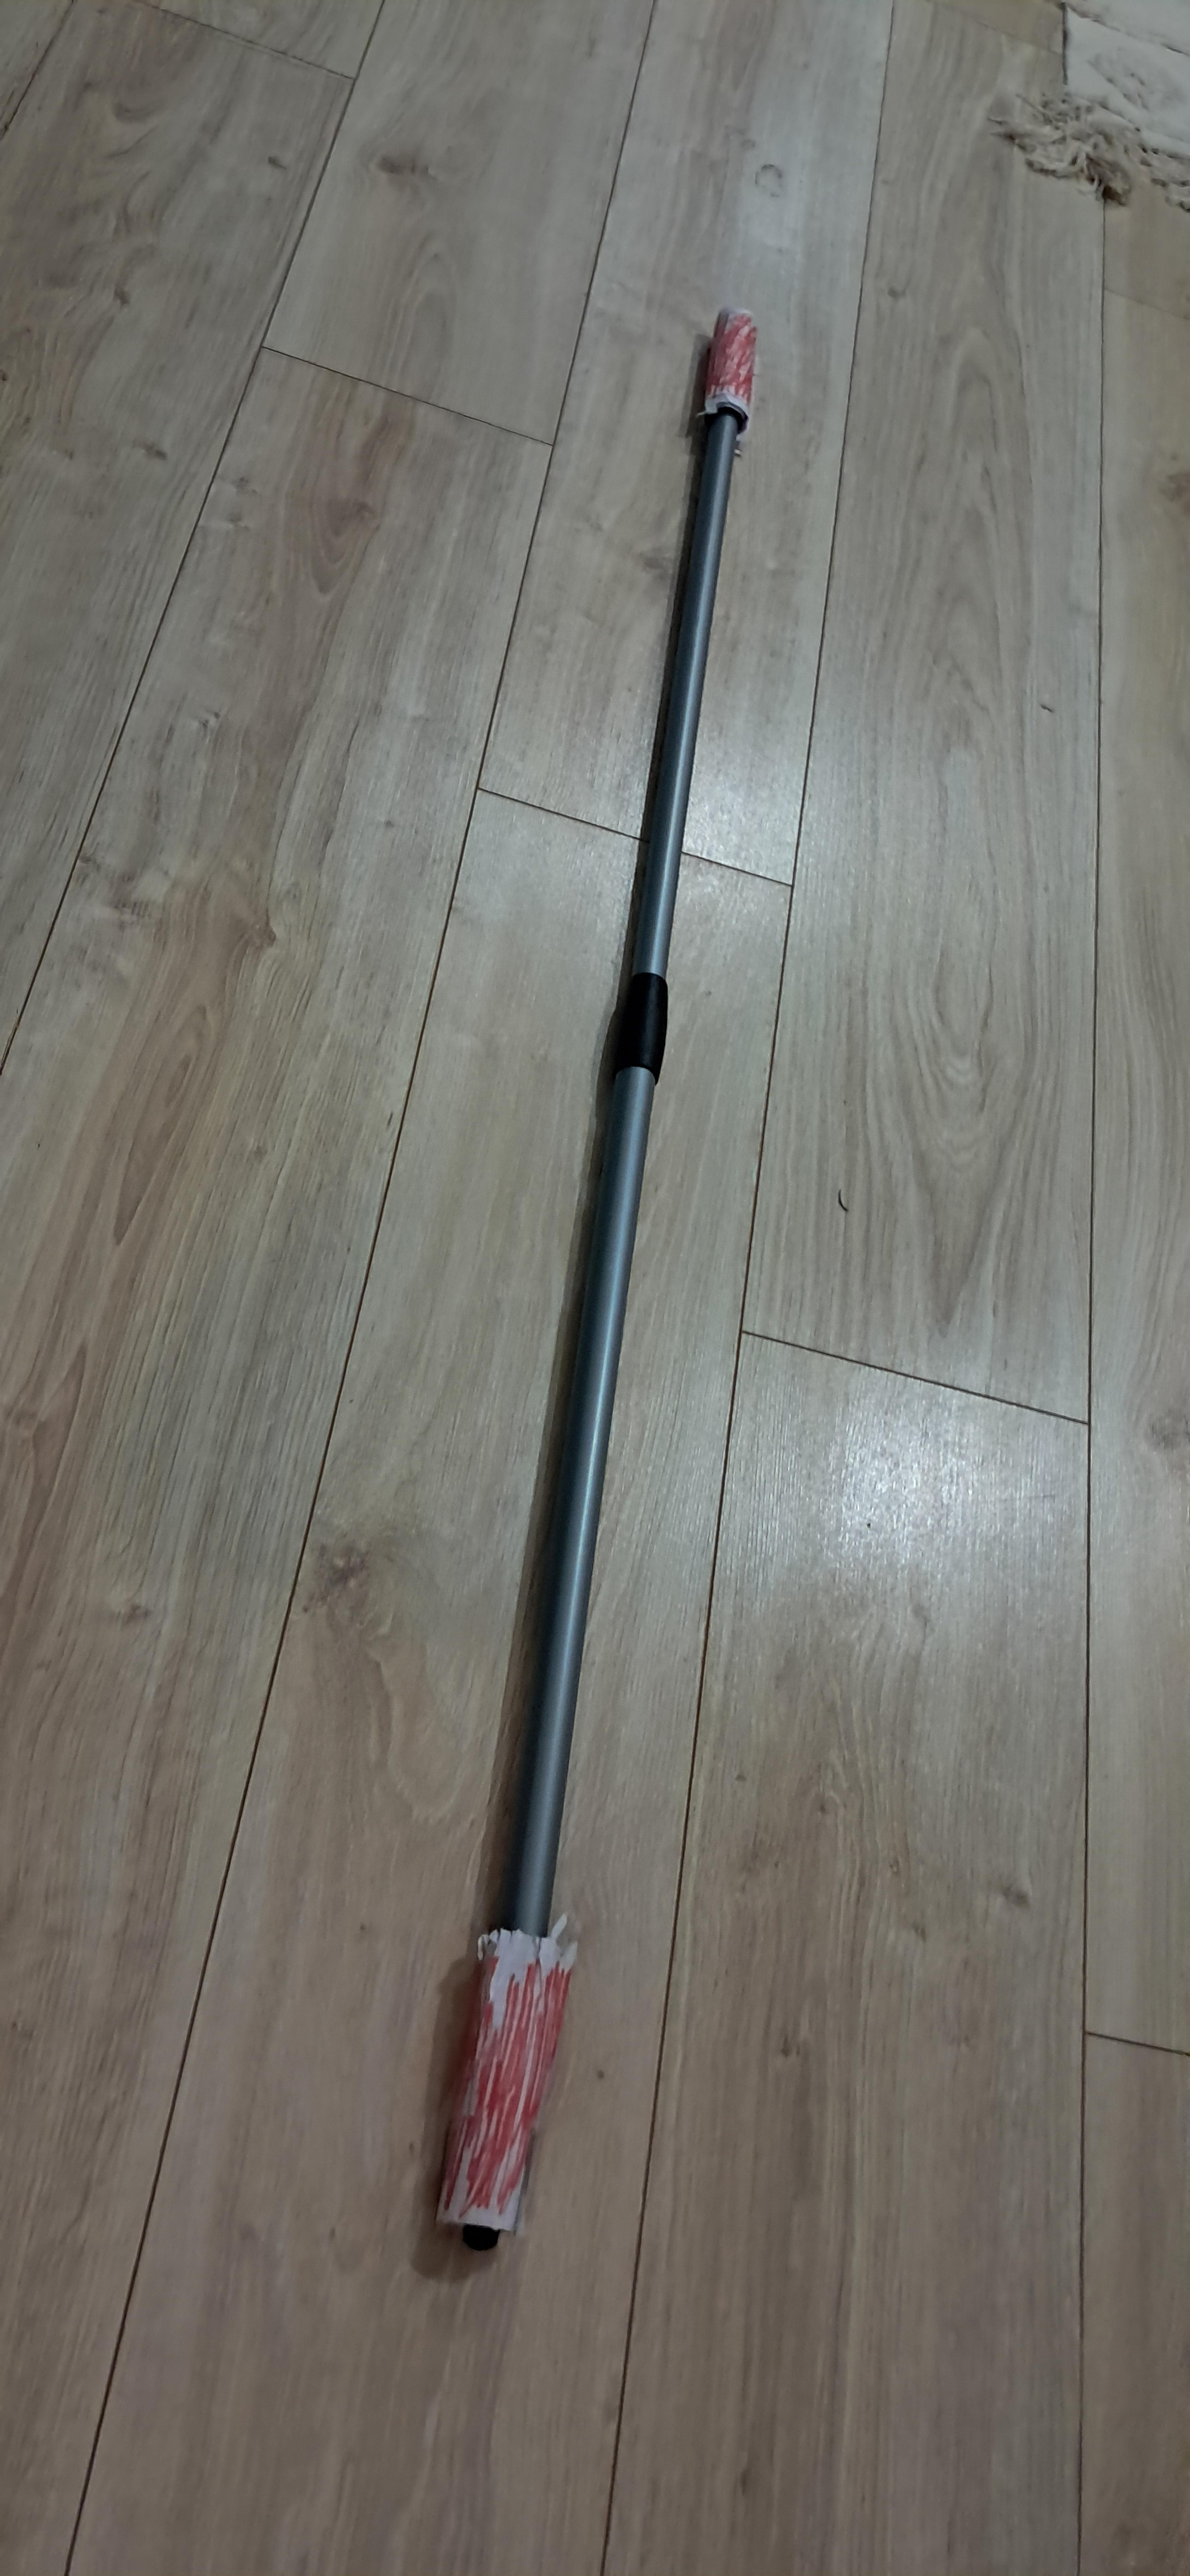broom-handle: (439, 310, 754, 2247)
